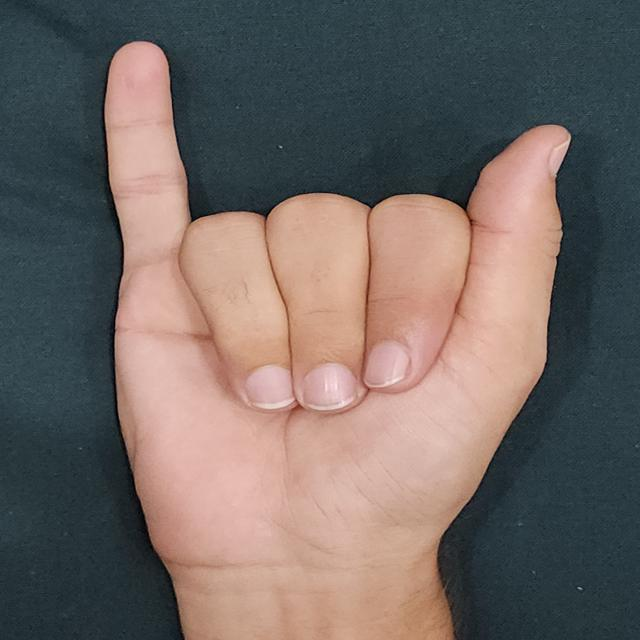ژ: (87, 29, 588, 605)
